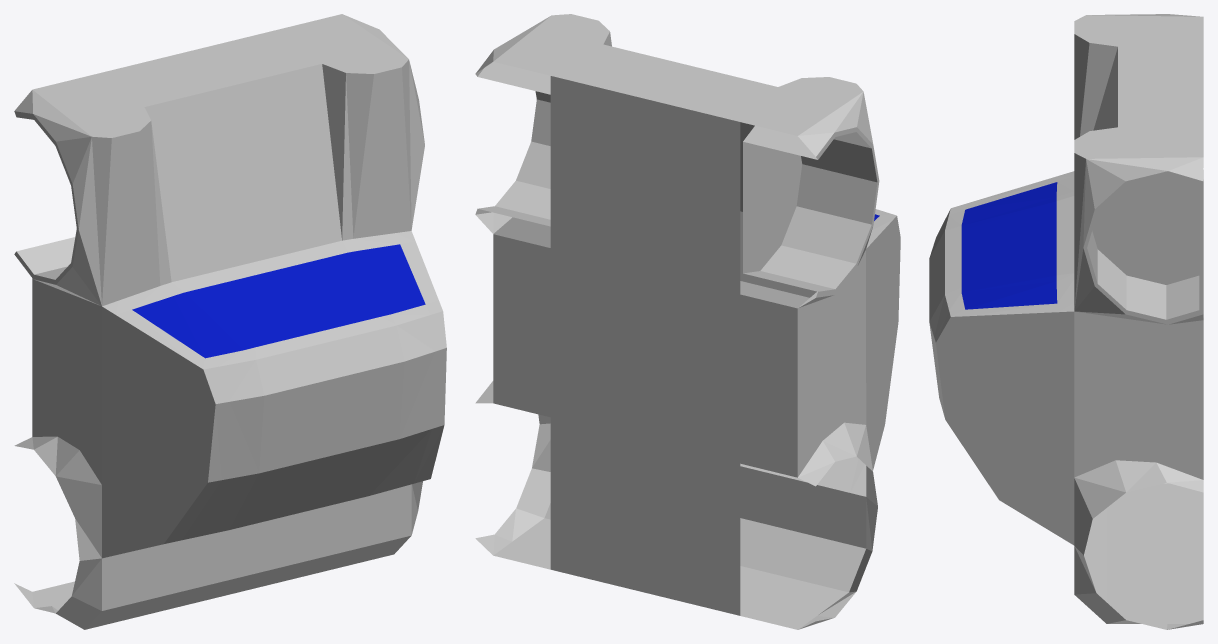
The model's file is car.obj.
3 renders of one model, left to right at view 1: azimuth 30°, elevation 25°; view 2: azimuth 150°, elevation 25°; view 3: azimuth 270°, elevation 25°, orthographic. The views are drawn at different scales.
Visible parts, largest first — view 1: car_body; view 2: car_body; view 3: car_body.
Part boxes in pixels (bbox=[...]): car_body: bbox=[14, 14, 446, 629]; car_body: bbox=[475, 14, 900, 629]; car_body: bbox=[929, 14, 1203, 629].
Size of the model in its own units: 2.24 by 3.1 by 1.65.
